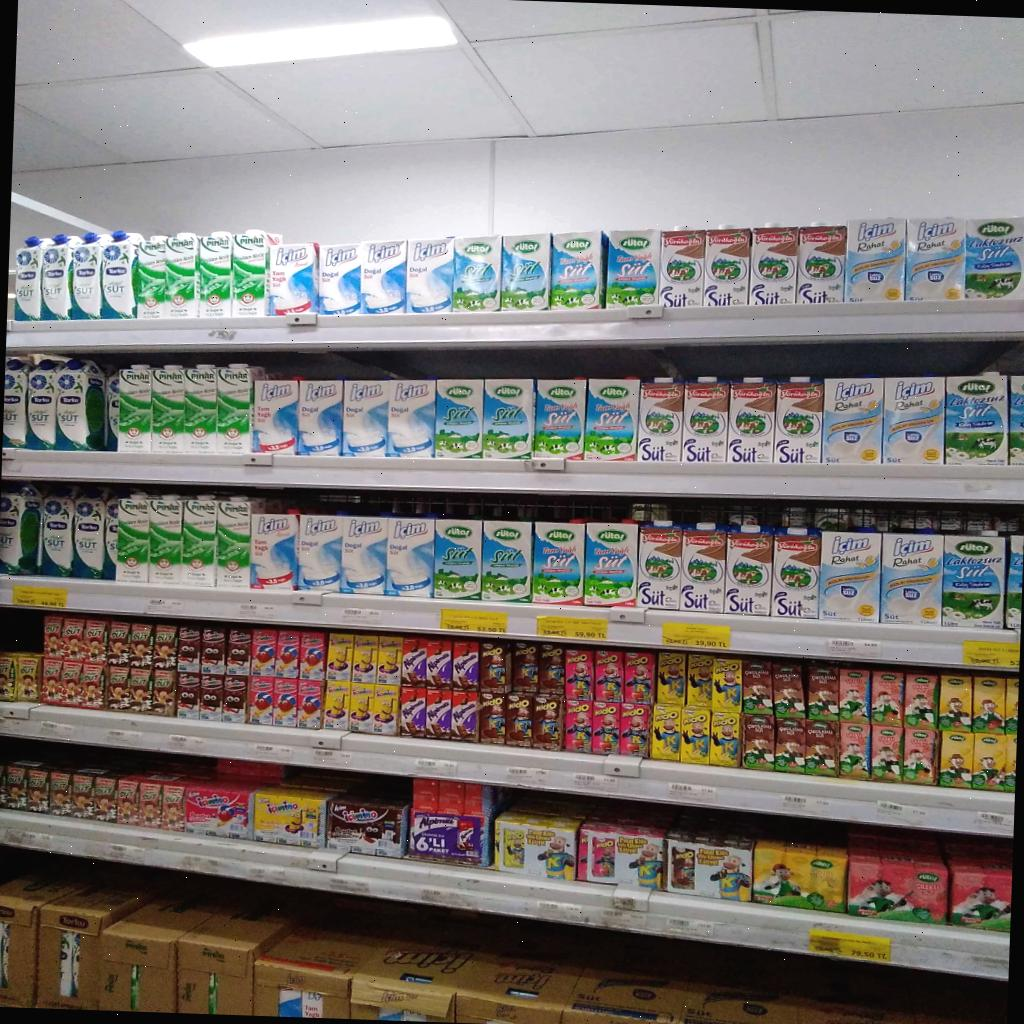price_tag: (810, 929, 891, 962), (662, 623, 731, 650), (537, 616, 608, 640), (440, 608, 507, 633), (963, 640, 1019, 668), (12, 585, 67, 609), (781, 794, 832, 817), (876, 801, 926, 824), (669, 783, 716, 806), (537, 900, 582, 923), (247, 866, 298, 886), (420, 889, 473, 908), (828, 638, 881, 657), (665, 918, 715, 938), (319, 877, 370, 896), (602, 910, 648, 930), (573, 773, 618, 792), (415, 758, 456, 778), (507, 767, 549, 786), (253, 744, 293, 763), (108, 844, 146, 864), (13, 831, 53, 849), (313, 749, 352, 767), (145, 598, 183, 616), (181, 855, 220, 872), (106, 729, 142, 747), (238, 602, 276, 619), (976, 812, 1013, 829), (41, 721, 74, 740), (340, 609, 381, 624), (168, 735, 204, 751), (0, 716, 27, 734), (781, 795, 809, 811)
product: (846, 828, 948, 923), (666, 818, 754, 901), (752, 839, 847, 913), (578, 817, 667, 889), (941, 533, 1005, 630), (495, 809, 581, 880), (944, 373, 1008, 465), (880, 532, 942, 625), (882, 376, 945, 465), (820, 529, 880, 622), (326, 793, 410, 857), (823, 377, 882, 464), (904, 215, 963, 301), (845, 217, 904, 301), (964, 217, 1024, 299), (253, 785, 329, 848), (949, 856, 1012, 931), (582, 521, 637, 606), (583, 378, 639, 461), (48, 758, 118, 822), (57, 359, 106, 450), (549, 230, 605, 309), (409, 809, 488, 865), (771, 529, 820, 619), (216, 495, 262, 589), (605, 229, 659, 309), (532, 379, 586, 459), (724, 525, 772, 615), (531, 522, 583, 605), (120, 769, 184, 835), (774, 378, 822, 463), (482, 378, 532, 459), (384, 516, 434, 597), (679, 524, 725, 612), (727, 378, 774, 463), (189, 778, 254, 839), (434, 378, 483, 458), (482, 521, 531, 601), (682, 377, 728, 462), (748, 226, 797, 305), (637, 522, 681, 609), (434, 519, 481, 600), (451, 235, 501, 311), (797, 224, 845, 303), (100, 230, 143, 318), (386, 380, 435, 457), (266, 242, 317, 315), (501, 233, 549, 310), (250, 513, 298, 590), (340, 516, 387, 594), (406, 237, 453, 314), (638, 379, 682, 461), (0, 484, 40, 574), (659, 229, 705, 307), (704, 228, 750, 306), (342, 380, 389, 456), (296, 514, 342, 591), (26, 357, 64, 449), (360, 239, 406, 314), (297, 379, 342, 455), (253, 379, 298, 454), (41, 234, 80, 319), (216, 363, 252, 453), (231, 230, 268, 316), (180, 496, 215, 586), (14, 236, 51, 321), (72, 232, 108, 318), (117, 364, 152, 452), (181, 365, 216, 453), (115, 493, 149, 583), (319, 242, 360, 315), (196, 232, 231, 317), (0, 754, 50, 812), (164, 232, 198, 317), (149, 496, 182, 583), (152, 365, 184, 452), (41, 489, 73, 576), (133, 236, 166, 318), (2, 355, 31, 447), (73, 498, 105, 578), (901, 727, 938, 784), (938, 732, 974, 788), (937, 675, 972, 732), (903, 672, 938, 728), (837, 666, 871, 723), (971, 734, 1005, 789), (972, 676, 1004, 733), (772, 663, 805, 718), (649, 704, 681, 760), (622, 650, 655, 704), (839, 722, 870, 779), (871, 725, 903, 780), (870, 672, 903, 725), (531, 694, 562, 750), (679, 707, 710, 763), (742, 714, 773, 770), (709, 710, 740, 766), (805, 720, 836, 776), (807, 665, 838, 719), (619, 702, 650, 756), (1005, 535, 1023, 628), (479, 641, 510, 694), (712, 656, 741, 711), (743, 660, 772, 715), (591, 700, 620, 755), (656, 651, 686, 704), (774, 719, 803, 773), (686, 653, 714, 708), (563, 699, 591, 753), (537, 642, 564, 696), (565, 647, 593, 699), (594, 649, 622, 701), (477, 692, 505, 744), (506, 692, 532, 747), (323, 678, 350, 730), (450, 689, 477, 741), (296, 676, 322, 729), (375, 635, 402, 686), (451, 640, 478, 691), (371, 685, 399, 734), (511, 641, 537, 693), (424, 687, 450, 739), (1009, 375, 1024, 465), (349, 684, 376, 733), (400, 686, 426, 736), (127, 657, 151, 711), (149, 667, 176, 715), (251, 628, 278, 676), (326, 631, 353, 679), (77, 661, 104, 708), (249, 675, 274, 725), (426, 639, 451, 689), (272, 677, 297, 727), (221, 674, 247, 722), (276, 629, 301, 678), (402, 638, 427, 687), (15, 653, 41, 700), (199, 671, 223, 721), (152, 624, 178, 670), (353, 634, 377, 683), (226, 628, 251, 675), (105, 663, 130, 710), (200, 626, 224, 674), (300, 632, 325, 678), (40, 655, 63, 704), (129, 622, 152, 670), (59, 659, 82, 706), (178, 625, 200, 673), (60, 617, 85, 659), (107, 621, 130, 666), (82, 619, 106, 662), (177, 672, 199, 718), (44, 614, 64, 658), (1005, 676, 1018, 734), (1003, 734, 1016, 792), (0, 652, 15, 700)
